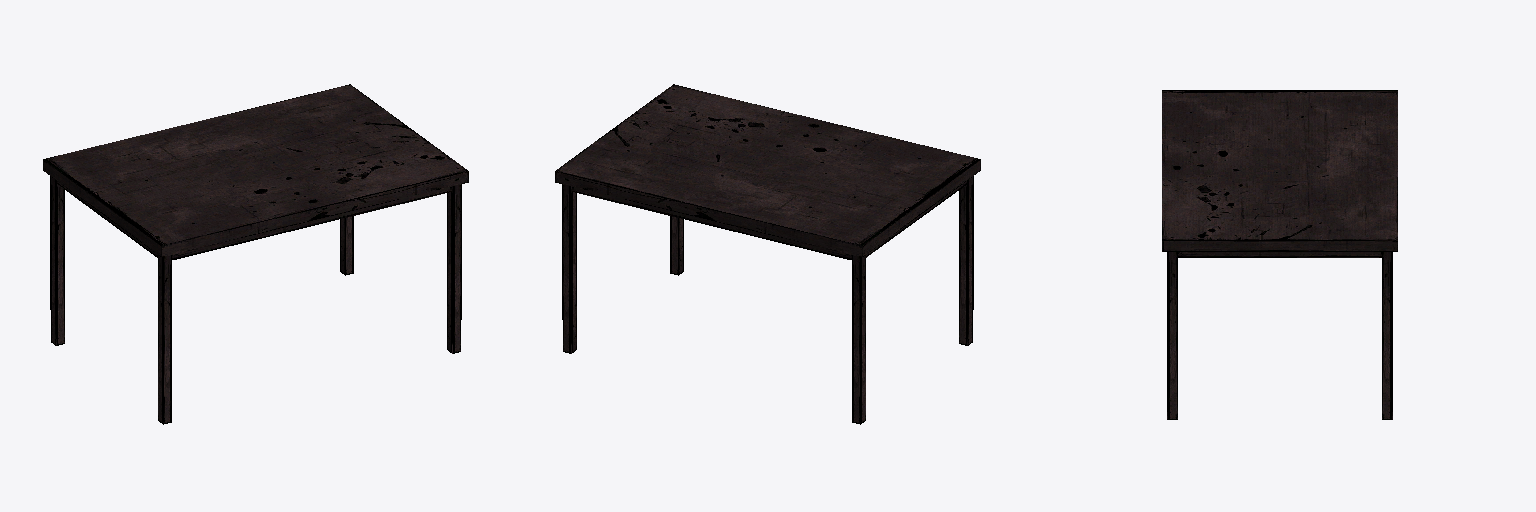
The picture shows the model from 3 angles: view 1: azimuth 30°, elevation 25°; view 2: azimuth 150°, elevation 25°; view 3: azimuth 270°, elevation 25°; orthographic projection.
Parts seen in each view (by area): view 1: table; view 2: table; view 3: table.
Part boxes in pixels (bbox=[...]): table: bbox=[43, 84, 468, 424]; table: bbox=[555, 84, 980, 424]; table: bbox=[1162, 90, 1397, 419].
Bounding box in the file's own units: 3 × 1.7 × 2.
1 materials, 1 textured.